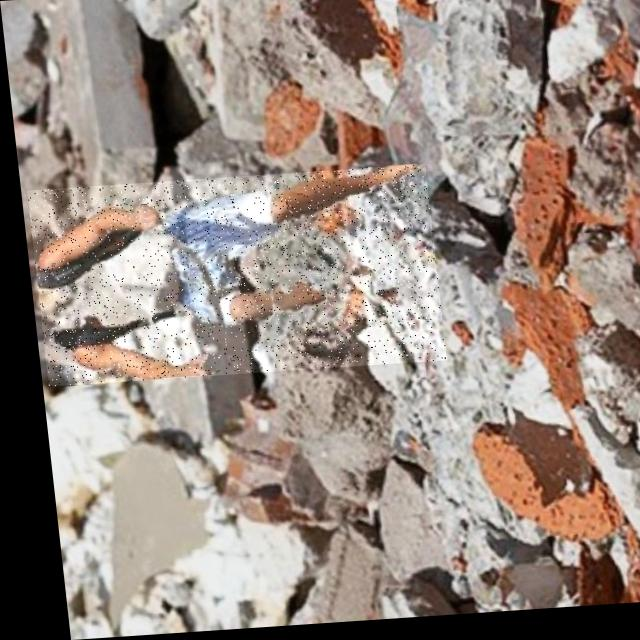Person in Rubble: (23, 169, 438, 386)
